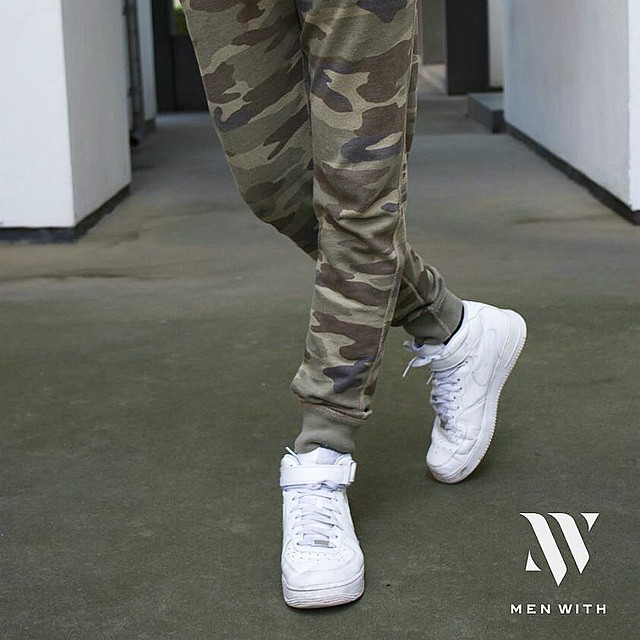sneaker: (389, 291, 542, 496), (255, 427, 384, 625)
